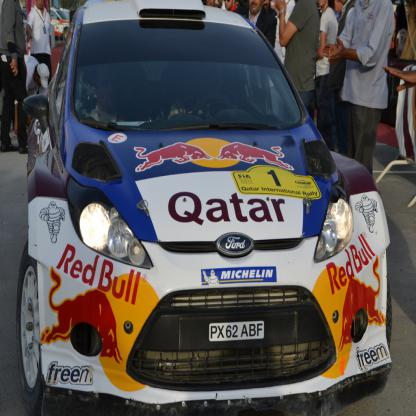Car: (16, 0, 393, 415)
